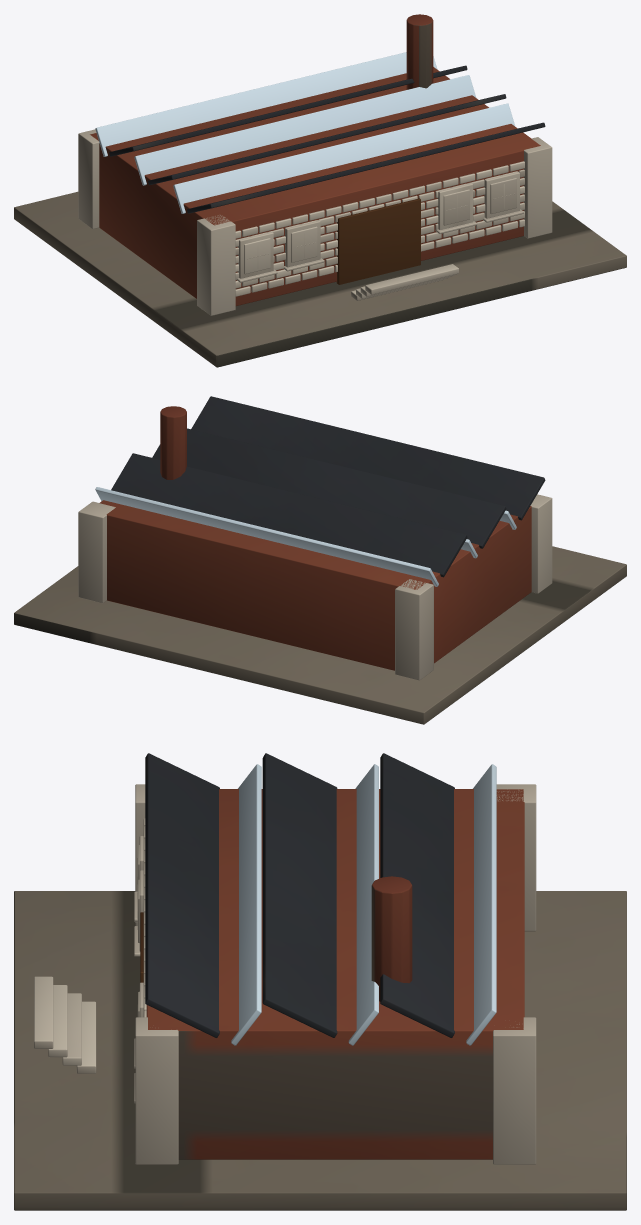
File: building_university_workshop.fbx
3 renders of one model, top to bottom at view 1: azimuth 30°, elevation 25°; view 2: azimuth 150°, elevation 25°; view 3: azimuth 270°, elevation 25°, orthographic. The views are drawn at different scales.
Parts seen in each view (by area): view 1: building_university_workshop; view 2: building_university_workshop; view 3: building_university_workshop.
Boxes of the visible parts, x1,y1,x2,y2 form: building_university_workshop: (14, 14, 626, 367); building_university_workshop: (14, 396, 626, 724); building_university_workshop: (14, 753, 626, 1210).
Bounding box in the file's own units: 14 × 5.75 × 12.
